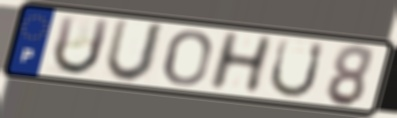8: (325, 42, 375, 108)
H: (204, 30, 278, 94)
O: (161, 28, 214, 88)
U: (102, 17, 169, 85), (50, 14, 113, 78), (266, 37, 328, 100)
